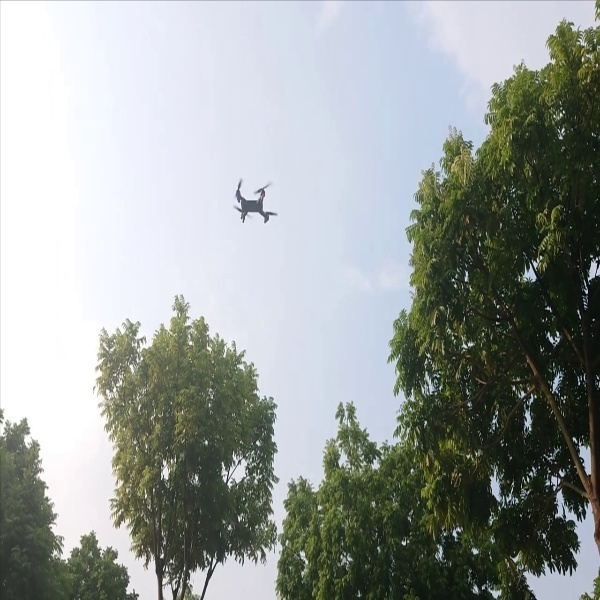drone: (229, 171, 278, 235)
